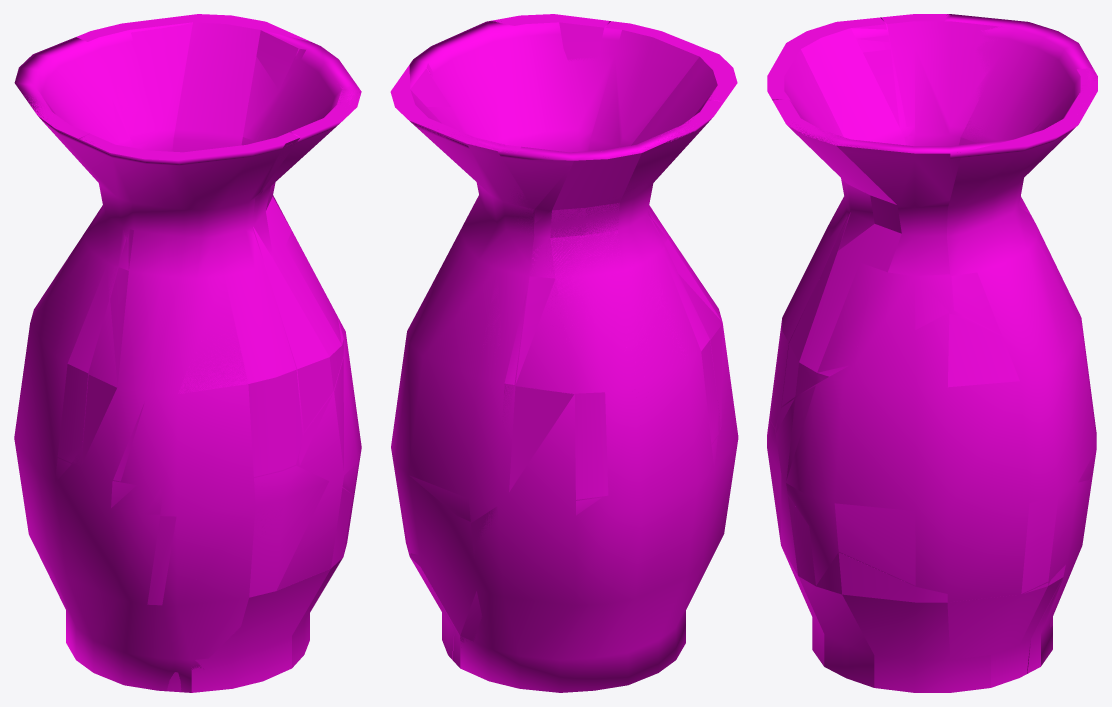
The model's file is Vase.fbx.
The picture shows the model from 3 angles, left to right: view 1: azimuth 30°, elevation 25°; view 2: azimuth 150°, elevation 25°; view 3: azimuth 270°, elevation 25°; orthographic projection.
Visible parts, largest first — view 1: Vase, Vase_cell.005, Vase_cell.002, Vase_cell.006, Vase_cell.003, Vase_cell.001, Vase_cell; view 2: Vase, Vase_cell.001, Vase_cell.005, Vase_cell.002, Vase_cell.003, Vase_cell.004, Vase_cell, Vase_cell.006; view 3: Vase, Vase_cell.006, Vase_cell.003, Vase_cell.005, Vase_cell, Vase_cell.001, Vase_cell.002, Vase_cell.004.
Boxes of the visible parts, box(x1,y1,x2,y2) form: Vase: box(14, 22, 361, 692); Vase_cell.005: box(79, 132, 302, 481); Vase_cell.002: box(76, 14, 310, 152); Vase_cell.006: box(111, 465, 353, 692); Vase_cell.003: box(253, 49, 360, 431); Vase_cell.001: box(28, 93, 128, 464); Vase_cell: box(298, 358, 357, 493); Vase: box(391, 20, 738, 692); Vase_cell.001: box(509, 100, 723, 499); Vase_cell.005: box(589, 21, 737, 426); Vase_cell.002: box(390, 65, 534, 433); Vase_cell.003: box(426, 14, 609, 76); Vase_cell.004: box(421, 437, 717, 668); Vase_cell: box(391, 448, 470, 550); Vase_cell.006: box(407, 547, 454, 659); Vase: box(770, 14, 1097, 673); Vase_cell.006: box(767, 408, 1065, 692); Vase_cell.003: box(772, 99, 960, 405); Vase_cell.005: box(767, 17, 908, 427); Vase_cell: box(776, 313, 1096, 593); Vase_cell.001: box(881, 14, 1041, 146); Vase_cell.002: box(951, 68, 1097, 334); Vase_cell.004: box(1027, 579, 1062, 673).
Bounding box in the file's own units: 57.66 × 108 × 57.75.
